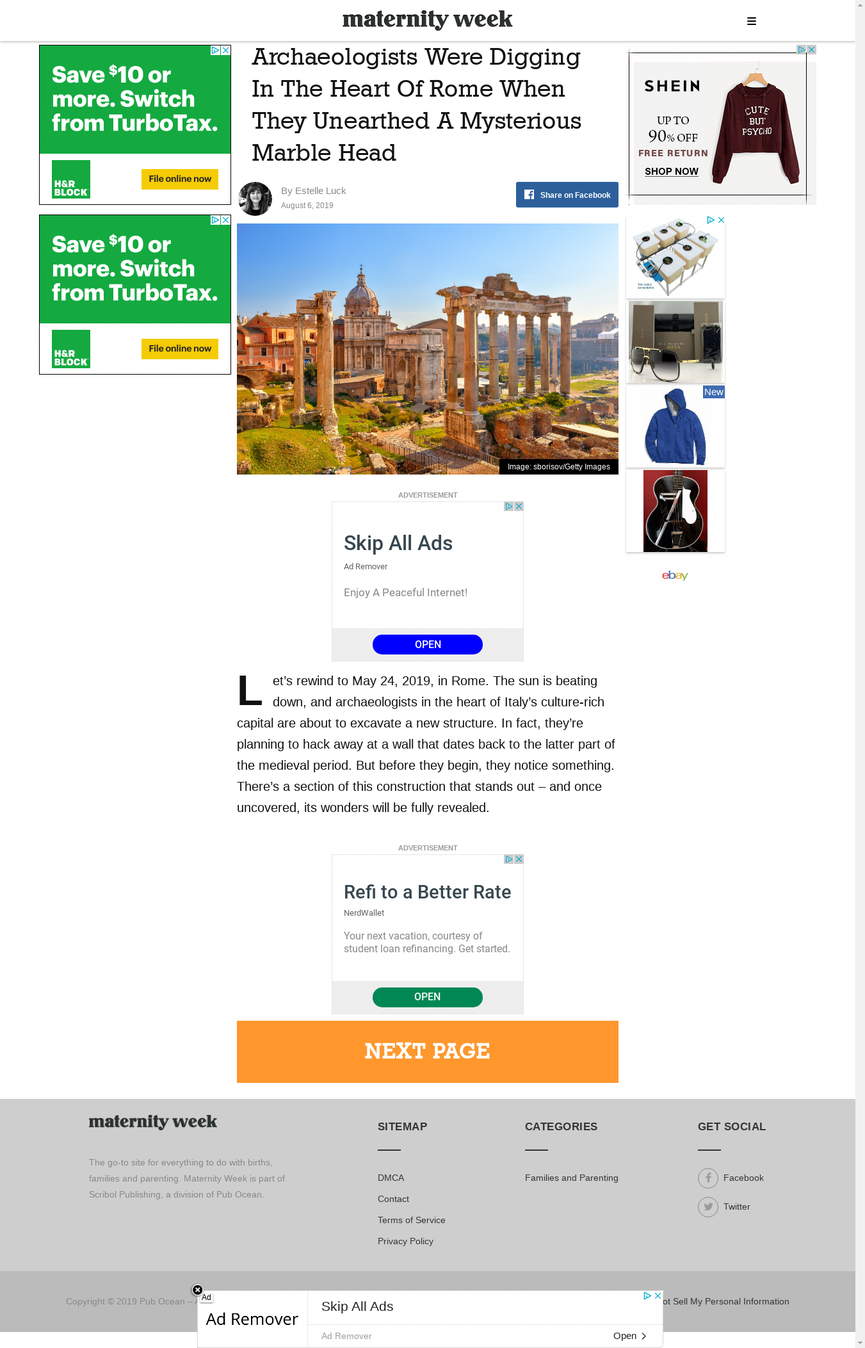fake_button: (216, 1003, 651, 1112), (132, 314, 237, 382), (130, 158, 254, 209)
